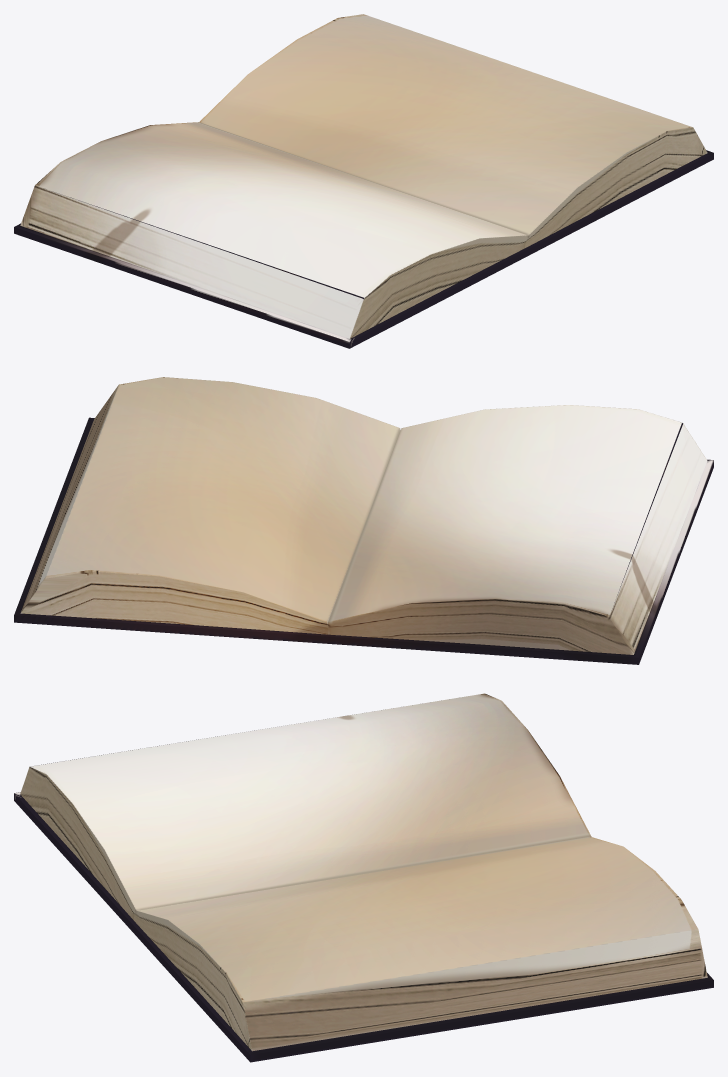
File: 5_5_Diary.gltf
The picture shows the model from 3 angles, top to bottom: view 1: azimuth 30°, elevation 25°; view 2: azimuth 150°, elevation 25°; view 3: azimuth 270°, elevation 25°; orthographic projection. The views are drawn at different scales.
Parts seen in each view (by area): view 1: book; view 2: book; view 3: book.
Boxes of the visible parts, x1,y1,x2,y2 form: book: [14, 14, 713, 348]; book: [14, 377, 713, 664]; book: [14, 693, 713, 1062].
Size of the model in its own units: 4.94 by 0.3922 by 4.35.
Materials: 1 (1 with a texture image).
